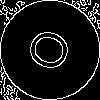O: (25, 25, 82, 78)
